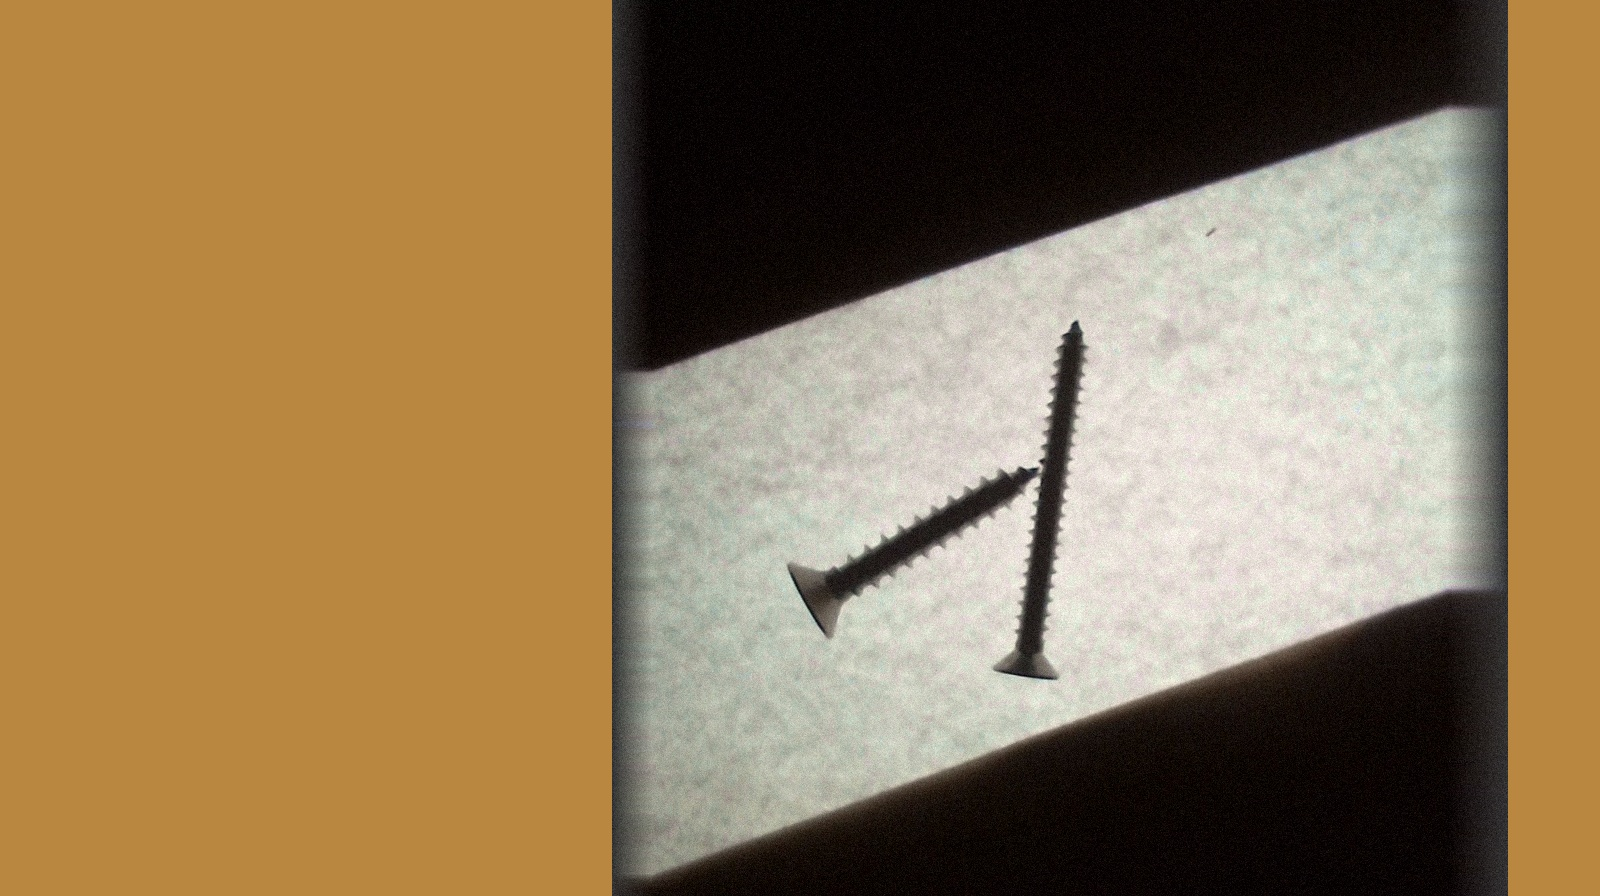S001: (784, 463, 1038, 645)
S002: (987, 320, 1090, 682)
